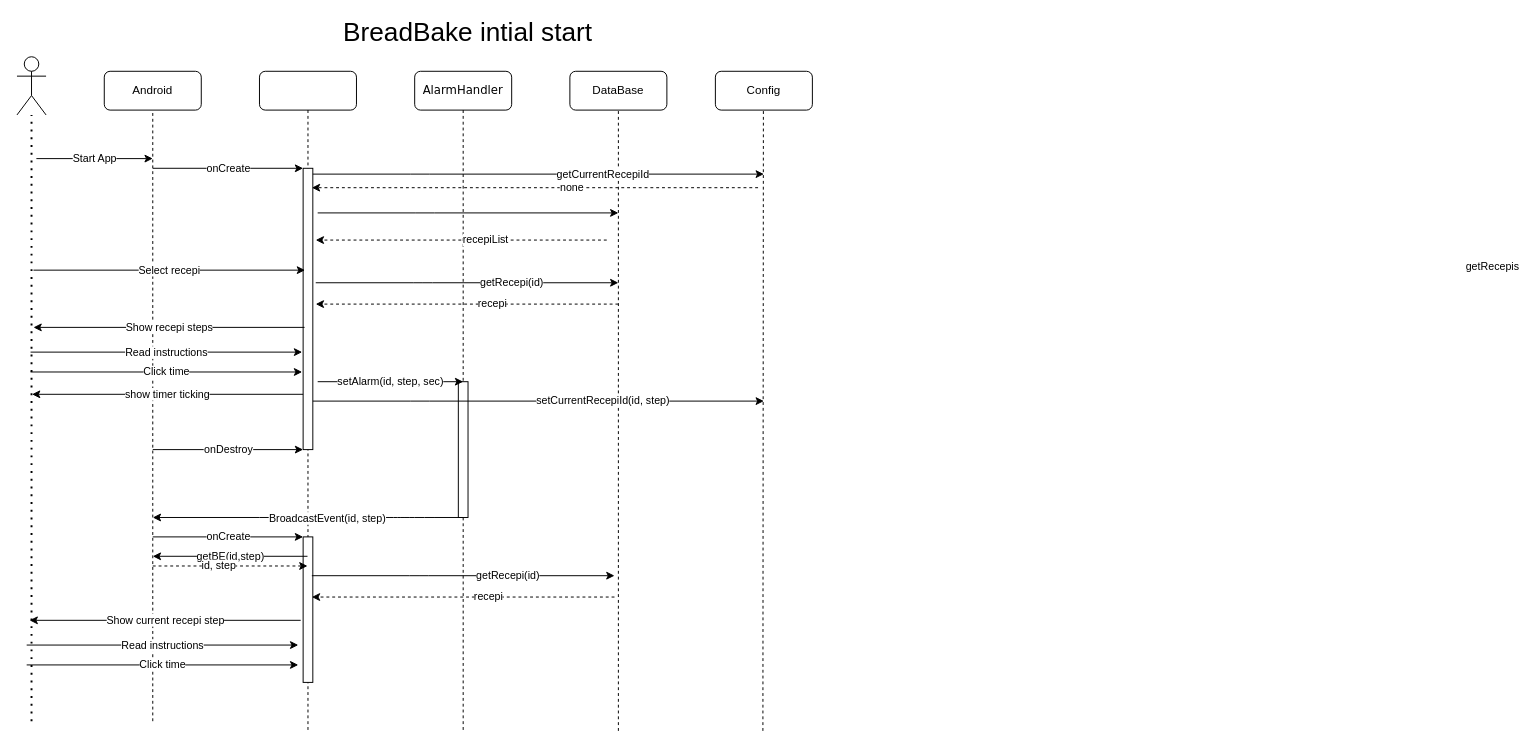
Image size: 1536x749. Some labels were removed from this diagram. The shapes that lost their labels are listed below. From the top down, each one's box as (x1, y1, x2, y2) in pixels, then its label:
(16, 56, 46, 115): Actor
(259, 70, 356, 731): GUI
